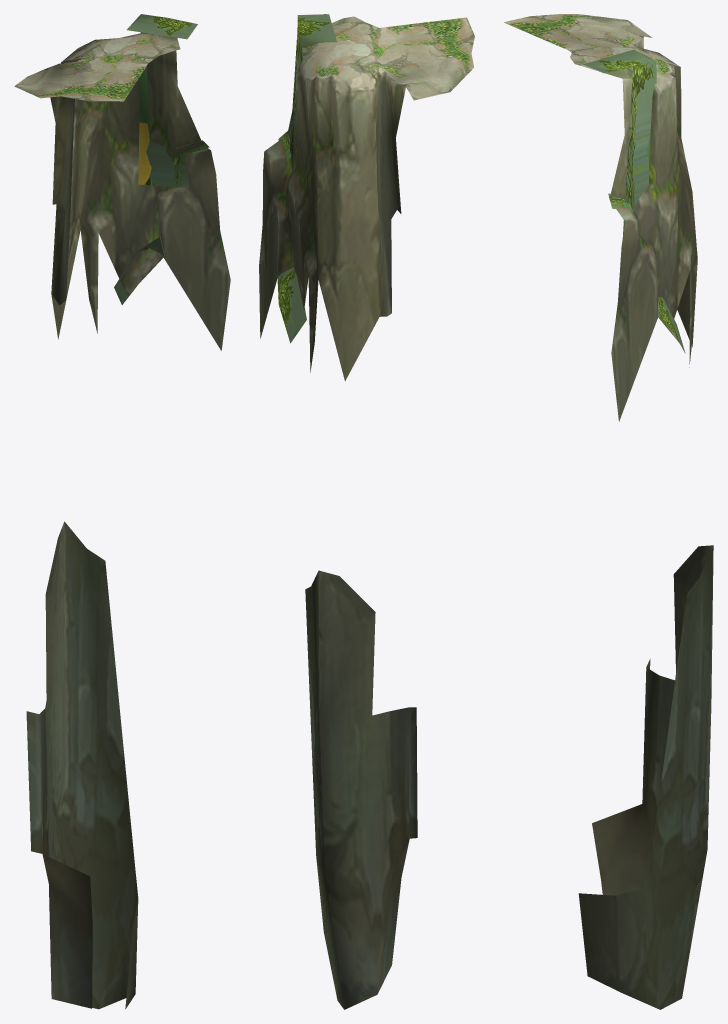
Rendered from S_Rock_Green080_H9.FBX.
3 renders of one model, left to right at view 1: azimuth 30°, elevation 25°; view 2: azimuth 150°, elevation 25°; view 3: azimuth 270°, elevation 25°, orthographic. The views are drawn at different scales.
Visible parts, largest first — view 1: S_Rock_Green080_H9; view 2: S_Rock_Green080_H9; view 3: S_Rock_Green080_H9.
Boxes of the visible parts, box(x1,y1,x2,y2) form: S_Rock_Green080_H9: box(14, 14, 230, 1009); S_Rock_Green080_H9: box(259, 14, 474, 1009); S_Rock_Green080_H9: box(504, 14, 713, 1009).
Size of the model in its own units: 2766 by 12564 by 2466.
